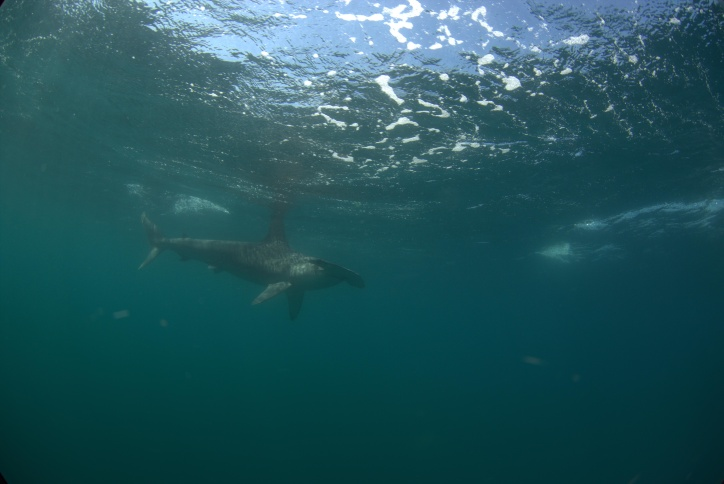Hammer: (124, 201, 386, 342)
